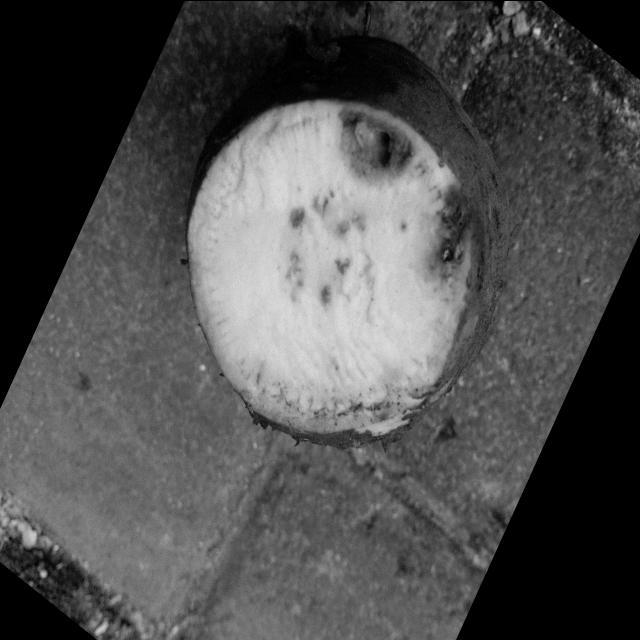Sick Sweet Potato_Tuber Rot: (188, 98, 471, 442)
